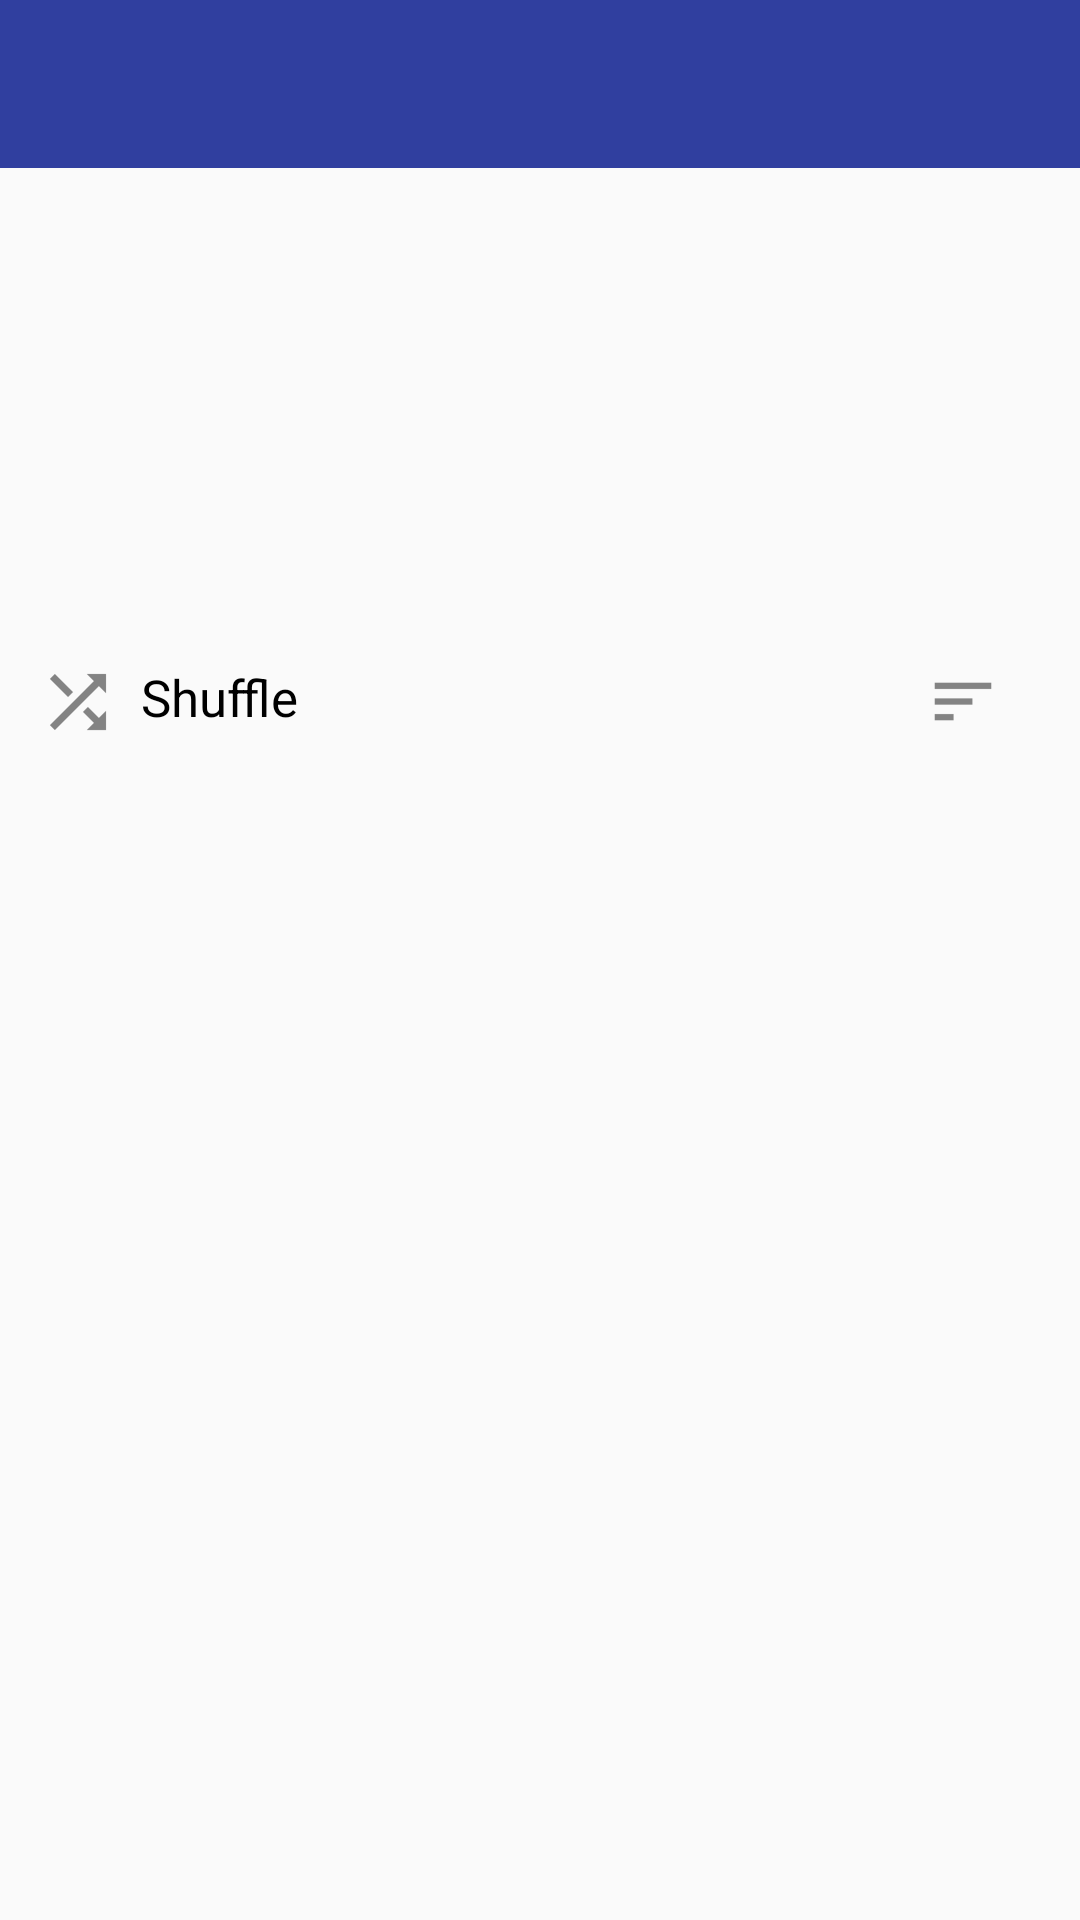

Icons on this 1080w x 1920h Android screen, each with its box as region(x1, y1, x2, y2):
sort: region(934, 682, 992, 721)
